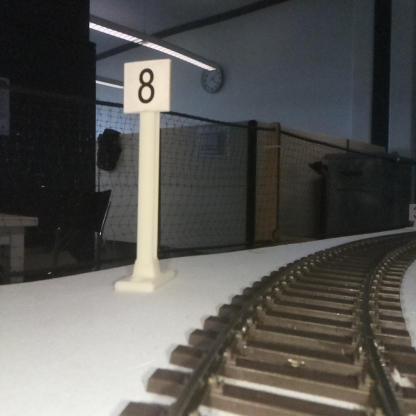white-info-8: (124, 60, 169, 288)
